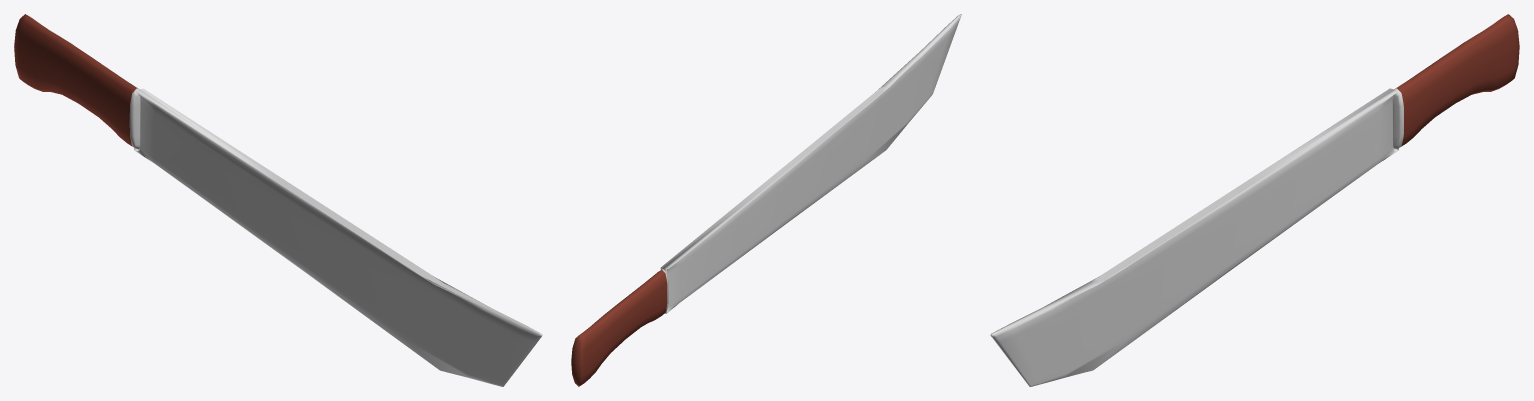
File: facao.fbx
3 views of the same model, side by side, from view 1: azimuth 30°, elevation 25°; view 2: azimuth 150°, elevation 25°; view 3: azimuth 330°, elevation 25° (orthographic). The views are drawn at different scales.
Visible parts, largest first — view 1: Cabo; view 2: Cabo; view 3: Cabo.
Boxes of the visible parts, left/top/right/bottom form: Cabo: left=14, top=14, right=542, bottom=386; Cabo: left=571, top=14, right=961, bottom=386; Cabo: left=990, top=14, right=1519, bottom=386.
Bounding box in the file's own units: 1.31 × 10.8 × 80.62.
